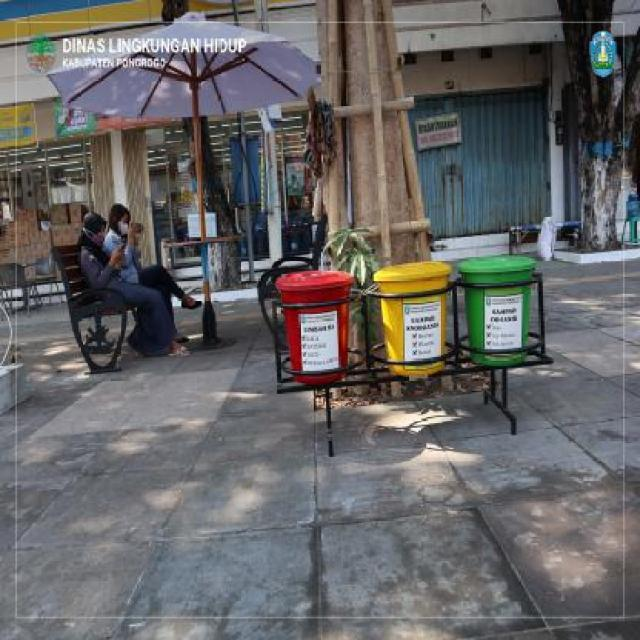garbage container: (369, 260, 454, 391), (275, 270, 361, 399), (456, 246, 541, 374)
